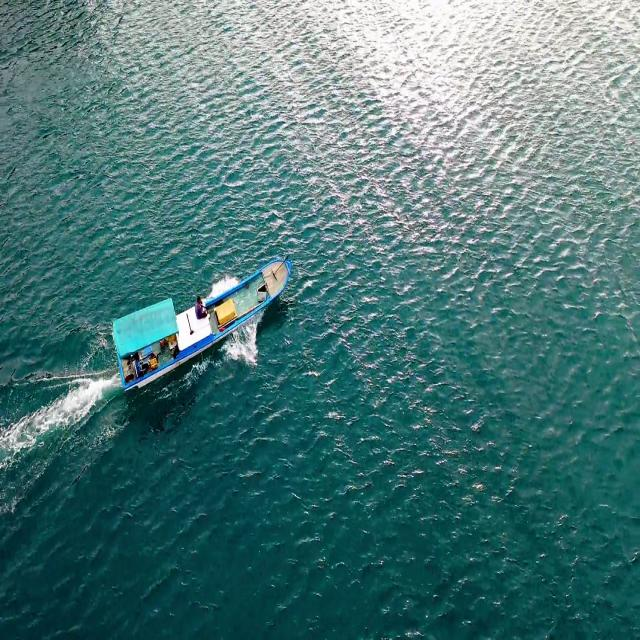ship: (112, 230, 295, 400)
